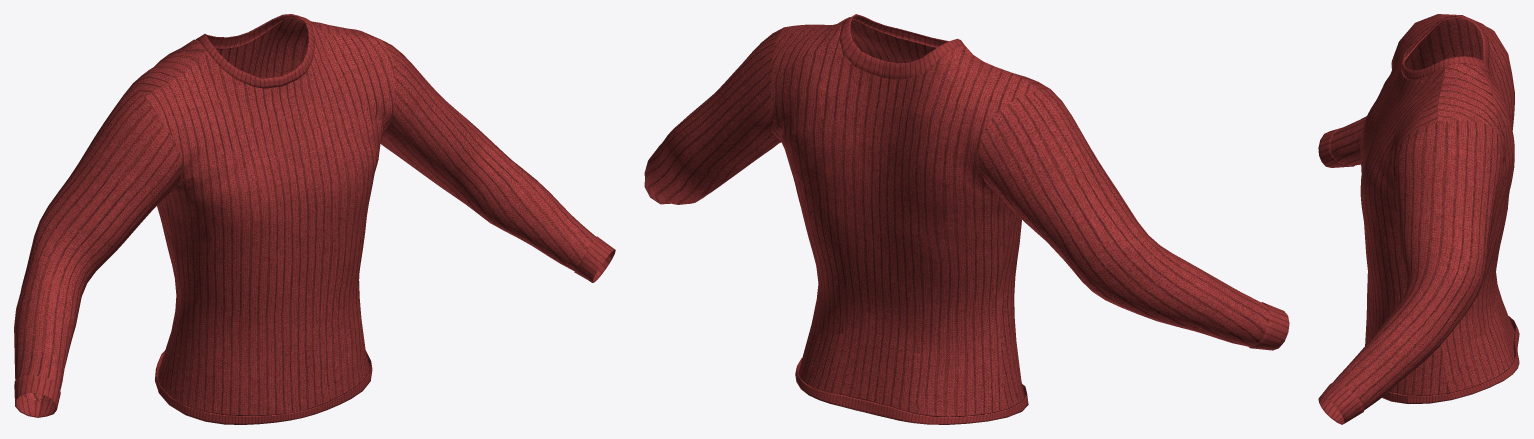
Rendered from toigo-fisherman-sweater.glb.
3 views of the same model, side by side, from view 1: azimuth 30°, elevation 25°; view 2: azimuth 150°, elevation 25°; view 3: azimuth 270°, elevation 25° (orthographic). The views are drawn at different scales.
Visible parts, largest first — view 1: fisherman sweater; view 2: fisherman sweater; view 3: fisherman sweater.
Boxes of the visible parts, x1,y1,x2,y2 form: fisherman sweater: [14, 14, 615, 424]; fisherman sweater: [644, 14, 1289, 424]; fisherman sweater: [1318, 14, 1519, 424].
Size of the model in its own units: 102 by 57.78 by 31.64.
Materials: 1 (1 with a texture image).
